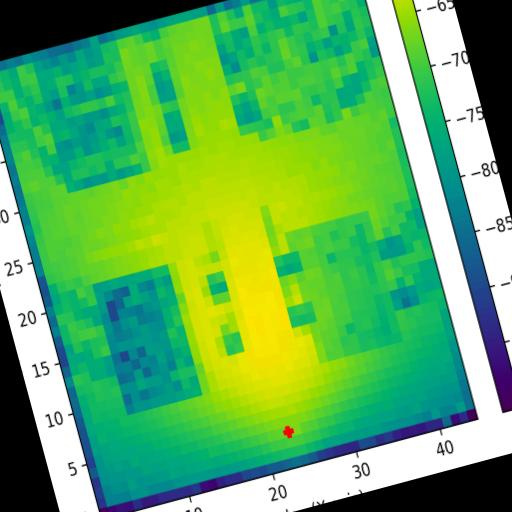Concrete: (208, 0, 365, 135)
Glass: (32, 41, 150, 192)
Metal: (284, 211, 404, 364)
Wood: (92, 262, 202, 414)
